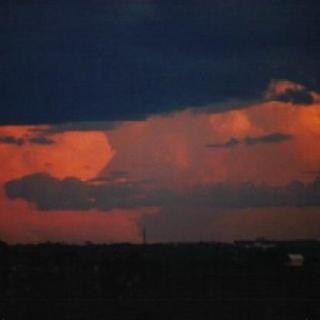Stratocumulus: (0, 81, 320, 233)
